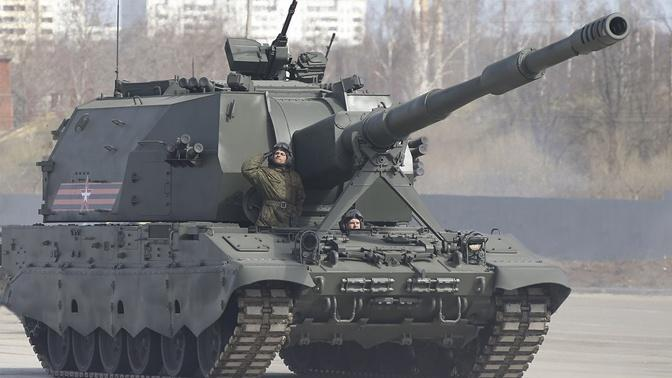person: (241, 142, 312, 223)
sau: (10, 10, 645, 378)
